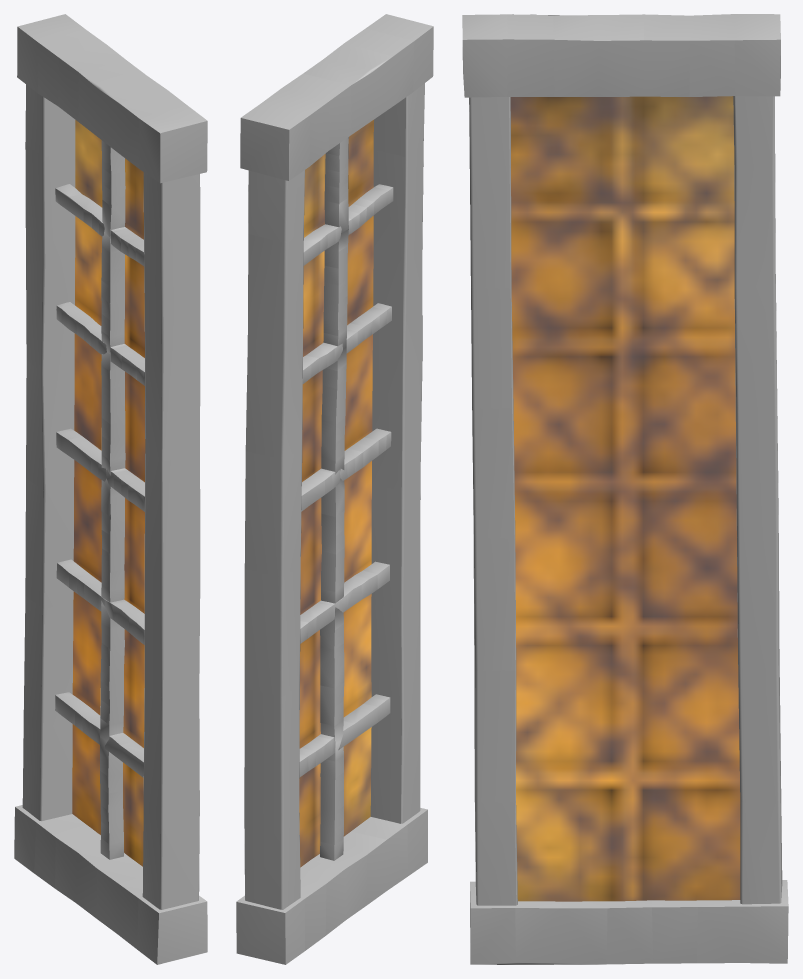
The model's file is SM_Window-SlimTall-D.fbx.
The picture shows the model from 3 angles, left to right: view 1: azimuth 30°, elevation 25°; view 2: azimuth 150°, elevation 25°; view 3: azimuth 270°, elevation 25°; orthographic projection. The views are drawn at different scales.
Parts seen in each view (by area): view 1: SM_Window-SlimTall-D_LOD0; view 2: SM_Window-SlimTall-D_LOD0; view 3: SM_Window-SlimTall-D_LOD0.
Part boxes in pixels (x1,y1,x2,y2): SM_Window-SlimTall-D_LOD0: (14,14,207,964); SM_Window-SlimTall-D_LOD0: (236,14,433,964); SM_Window-SlimTall-D_LOD0: (462,14,788,964).
Bounding box in the file's own units: 10.72 × 52.45 × 164.
2 materials, 1 textured.
